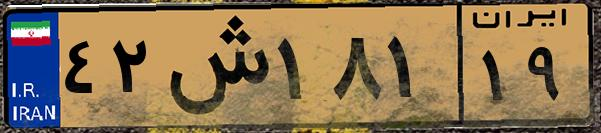1: (270, 28, 330, 110), (385, 28, 445, 110), (475, 38, 525, 113)
2: (110, 28, 158, 98)
4: (57, 26, 110, 100)
8: (330, 28, 385, 110)
9: (525, 38, 570, 115)
ش: (158, 12, 270, 120)
